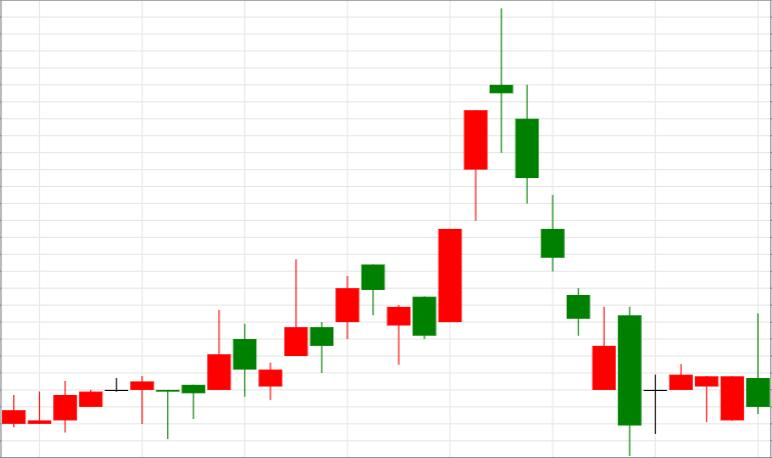evening_star_fall: (386, 8, 539, 364)
